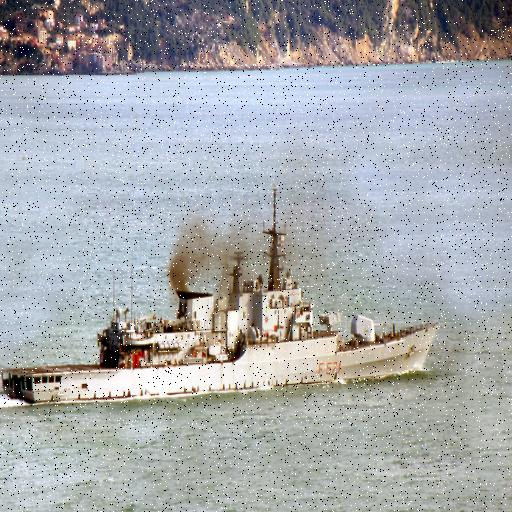Fragata: (1, 167, 445, 413)
